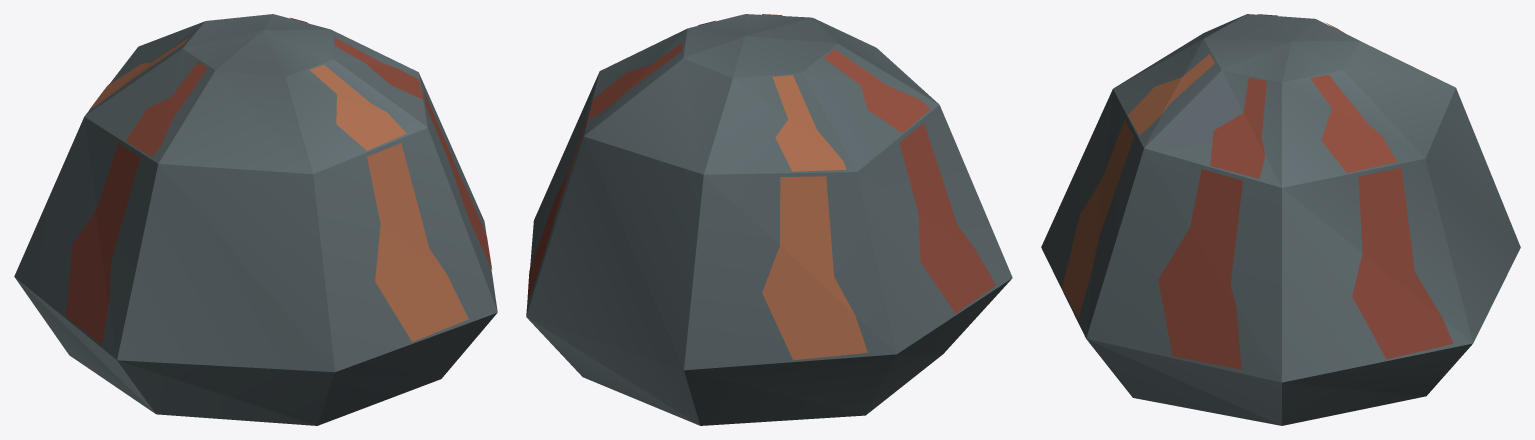
Rendered from rock_iron_ore.glb.
3 views of the same model, side by side, from view 1: azimuth 30°, elevation 25°; view 2: azimuth 150°, elevation 25°; view 3: azimuth 270°, elevation 25° (orthographic).
Visible parts, largest first — view 1: Body; view 2: Body; view 3: Body.
Part boxes in pixels (box(x1,y1,x2,y2)): Body: box(14, 14, 497, 425); Body: box(526, 14, 1012, 425); Body: box(1041, 14, 1520, 425).
Bounding box in the file's own units: 0.8889 × 0.63 × 0.8847.
